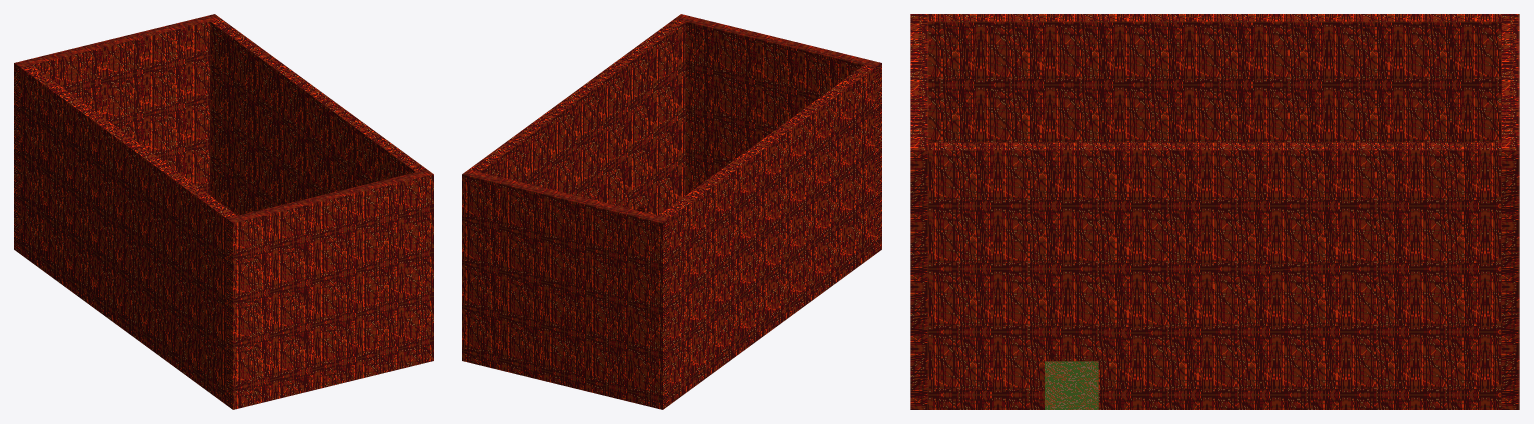
File: room3.fbx
The picture shows the model from 3 angles, left to right: view 1: azimuth 30°, elevation 25°; view 2: azimuth 150°, elevation 25°; view 3: azimuth 270°, elevation 25°; orthographic projection. The views are drawn at different scales.
Visible parts, largest first — view 1: Cube, Cube.003, Cube.002, Cube.001; view 2: Cube, Cube.001, Cube.002, Cube.003; view 3: Cube.002, Cube, Cube.001, Cube.003, Plane.
Boxes of the visible parts, box(x1,y1,x2,y2) form: Cube: box(20, 65, 237, 404); Cube.003: box(226, 169, 433, 409); Cube.002: box(210, 18, 426, 215); Cube.001: box(14, 14, 220, 253); Cube: box(658, 65, 875, 404); Cube.001: box(462, 169, 669, 409); Cube.002: box(469, 18, 685, 215); Cube.003: box(675, 14, 881, 253); Cube.002: box(928, 142, 1501, 409); Cube: box(928, 14, 1501, 142); Cube.001: box(1501, 14, 1519, 409); Cube.003: box(910, 14, 928, 409); Plane: box(1045, 361, 1098, 409).
Size of the model in its own units: 1800 by 1600 by 3400.
Materials: 4 (4 with a texture image).
